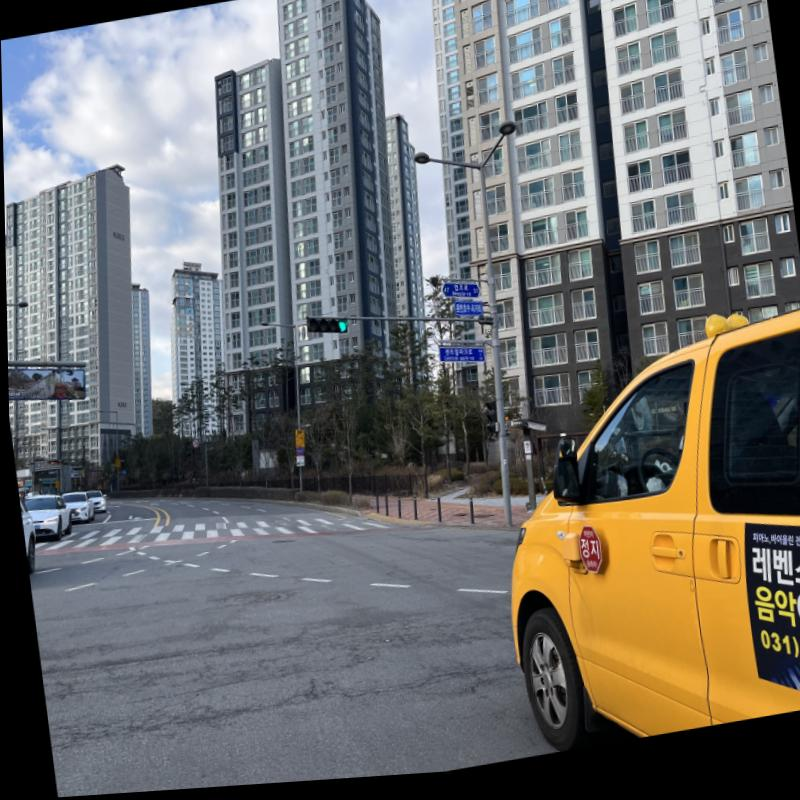green: (335, 324, 346, 337)
